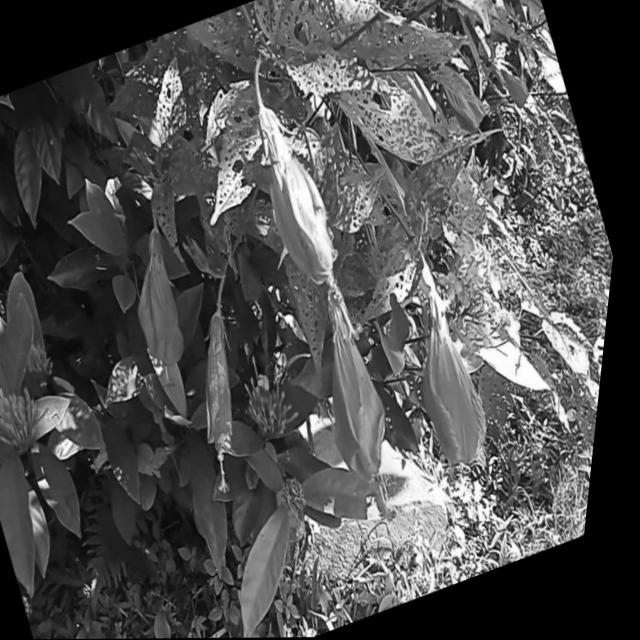Flower: (281, 272, 456, 537), (220, 90, 381, 338), (388, 282, 524, 484), (162, 304, 297, 502), (107, 223, 228, 402), (429, 53, 506, 156), (499, 62, 542, 117)
